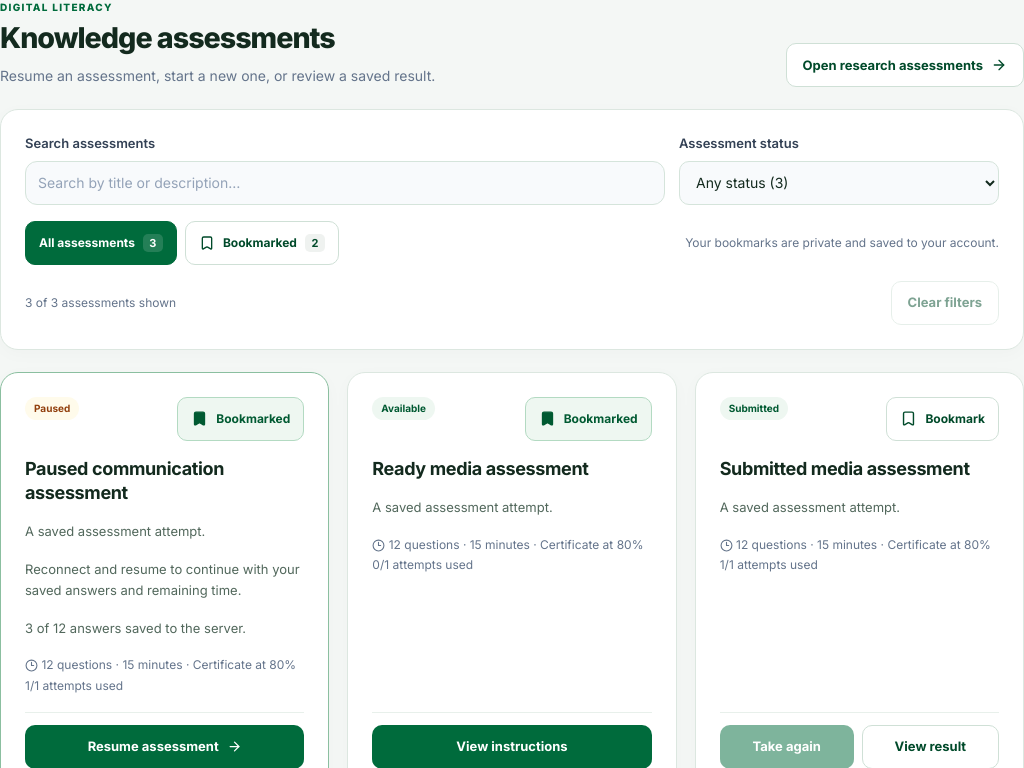
Test case: finding student assessments › prioritizes unfinished work and combines status, search and bookmarks
Check: the heading "Ready media assessment" is shown, box [372,458,588,479]
Check: the heading "Paused communication assessment" is shown, box [25,458,224,503]
Select "Ready to start (1)" in the dropdown labelled "Assessment status" at (839, 183), box [679,161,999,205]
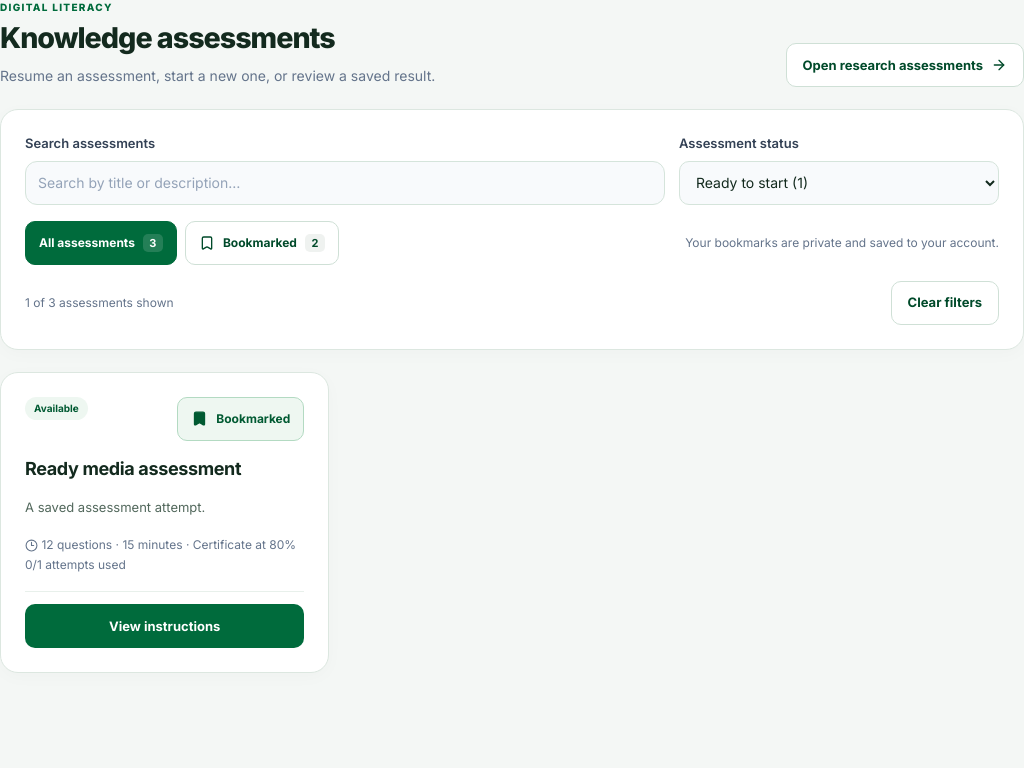
Check: the heading "Ready media assessment" is shown, box [25,458,241,479]
Check: the heading "Paused communication assessment" is gone
Check: the message reads "1 of 3 assessments shown", box [25,293,174,313]
Click the button "Bookmarked 2" at (262, 243), box [185,221,339,265]
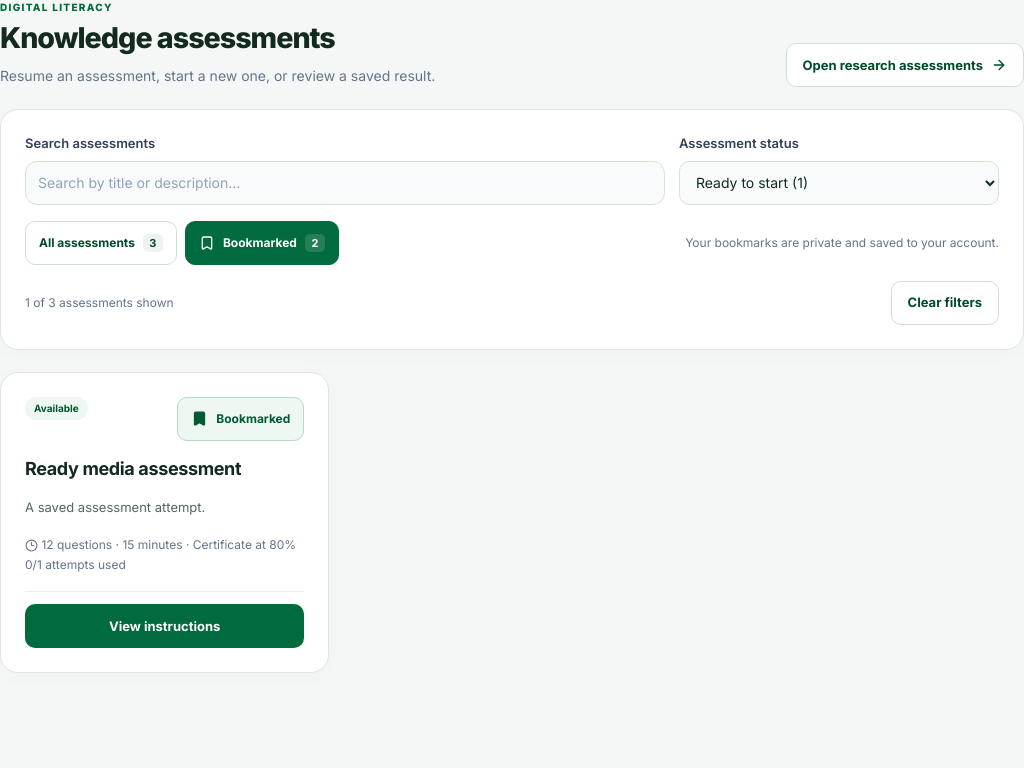
Type "communication" into the search field labelled "Search assessments" at (345, 183), box [25,161,665,205]
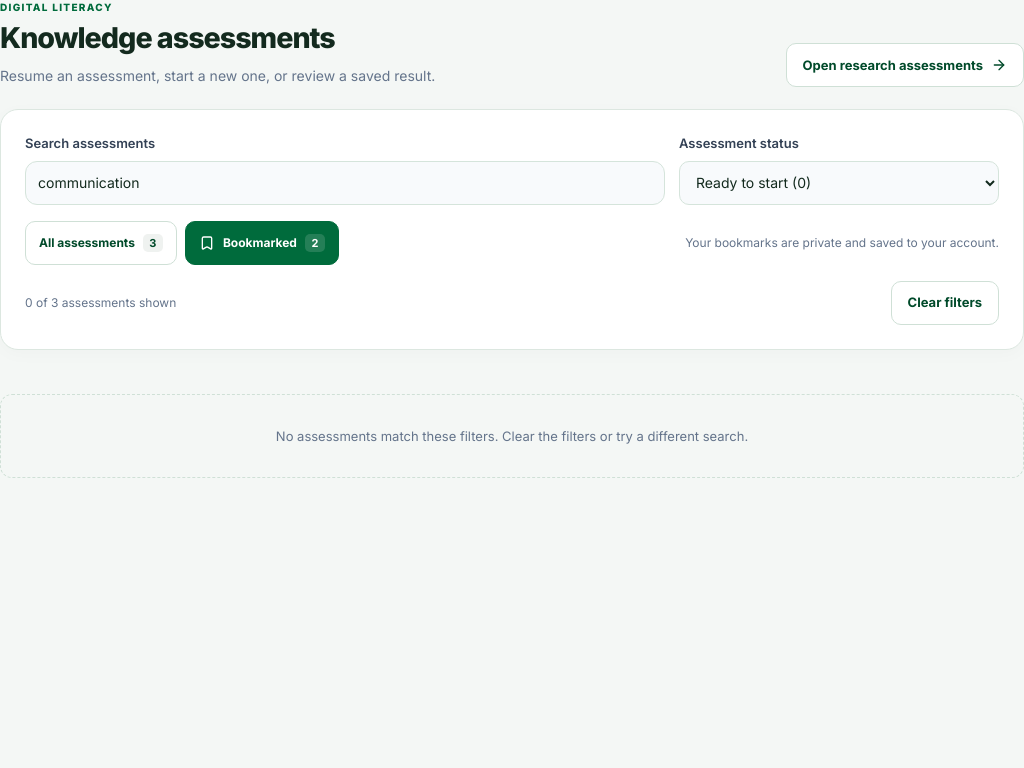
Check: the text "No assessments match these filters. Clear the filters or try a different search." is shown, box [0,394,1023,478]
Select "In progress or paused (1)" in the dropdown labelled "Assessment status" at (839, 183), box [679,161,999,205]
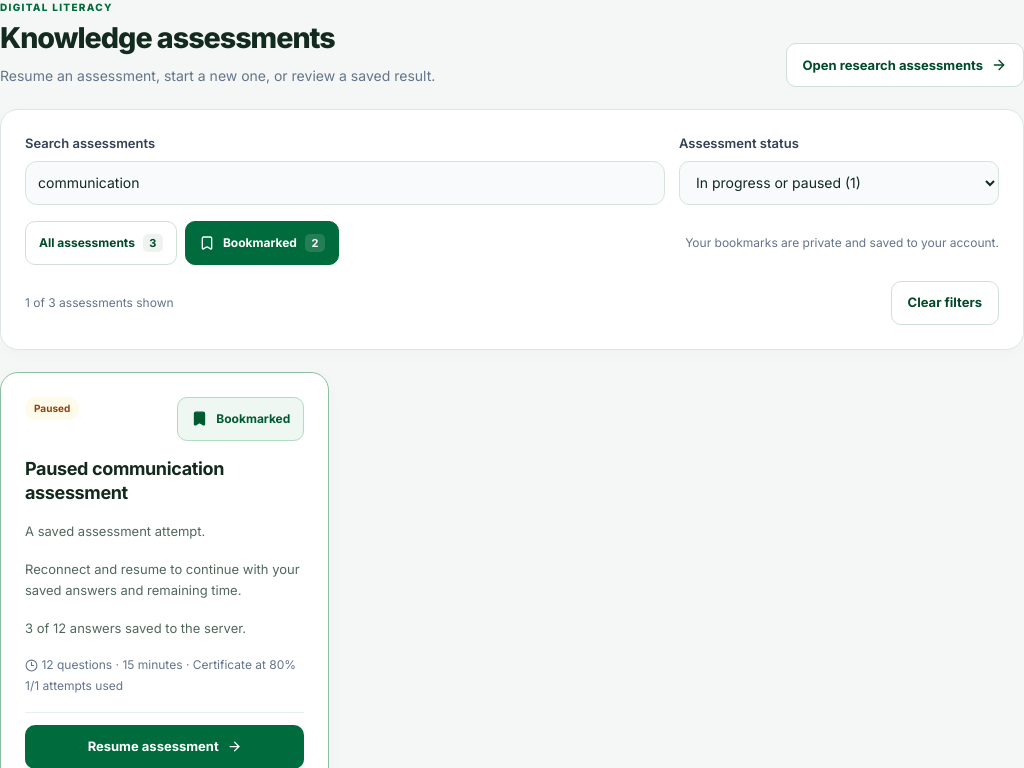
Check: the link "Resume assessment" is shown, box [25,725,304,767]
Click the button "Clear filters" at (945, 303), box [891,281,999,325]
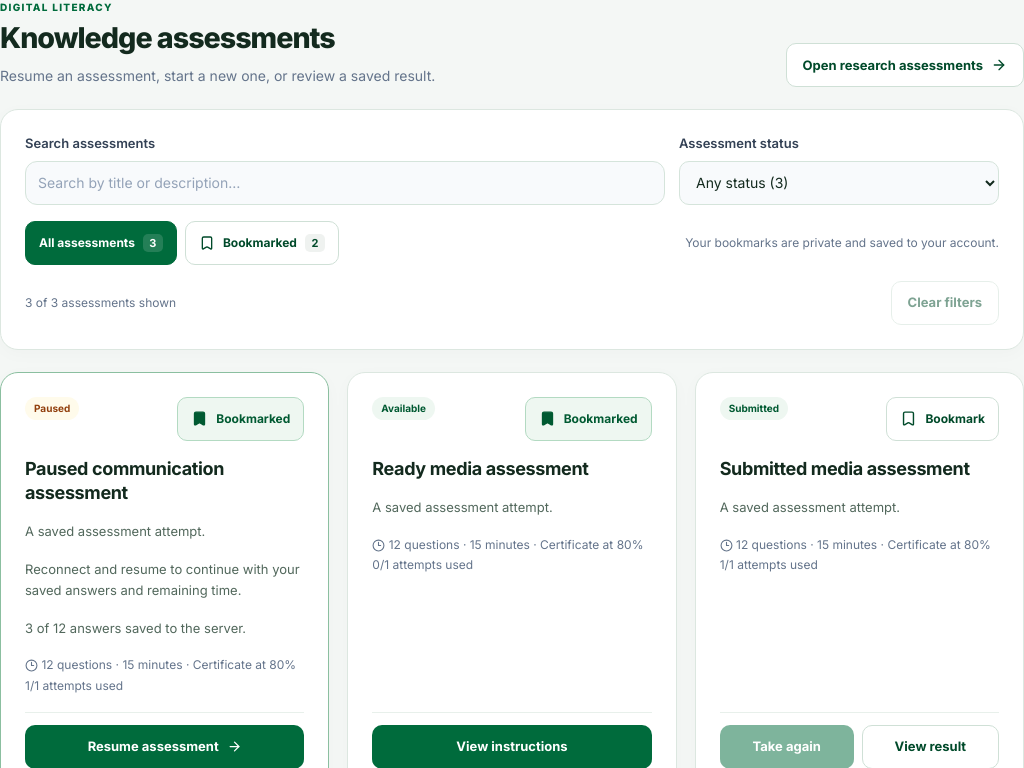
Check: the message reads "3 of 3 assessments shown", box [25,293,176,313]
Check: the link "View result" is shown, box [862,725,999,767]
